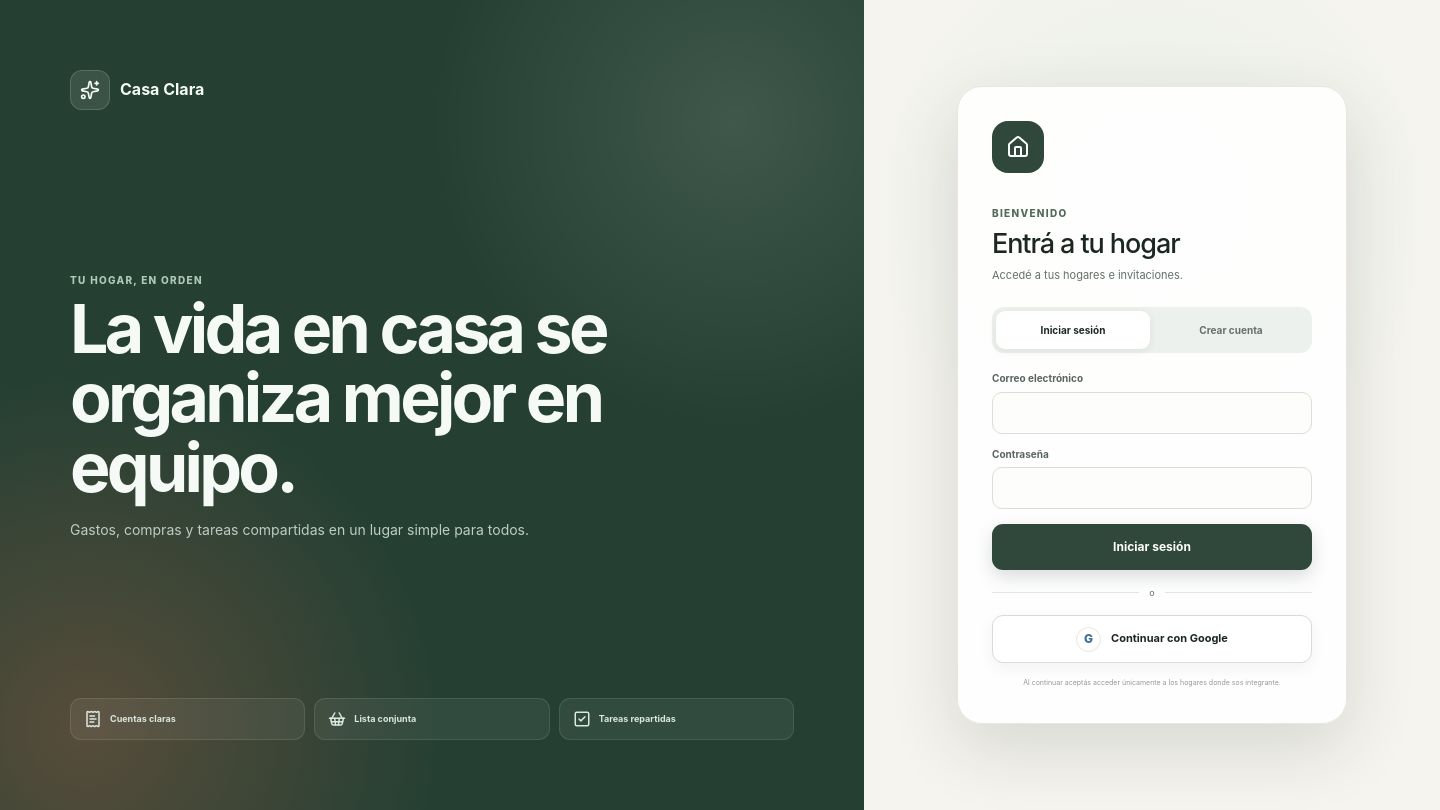
Scenario: AuthScreen › valida el registro y devuelve el foco al primer campo inválido
Click the tab "Crear cuenta".
click(1231, 330)  # box x1=1154 y1=311 x2=1308 y2=349
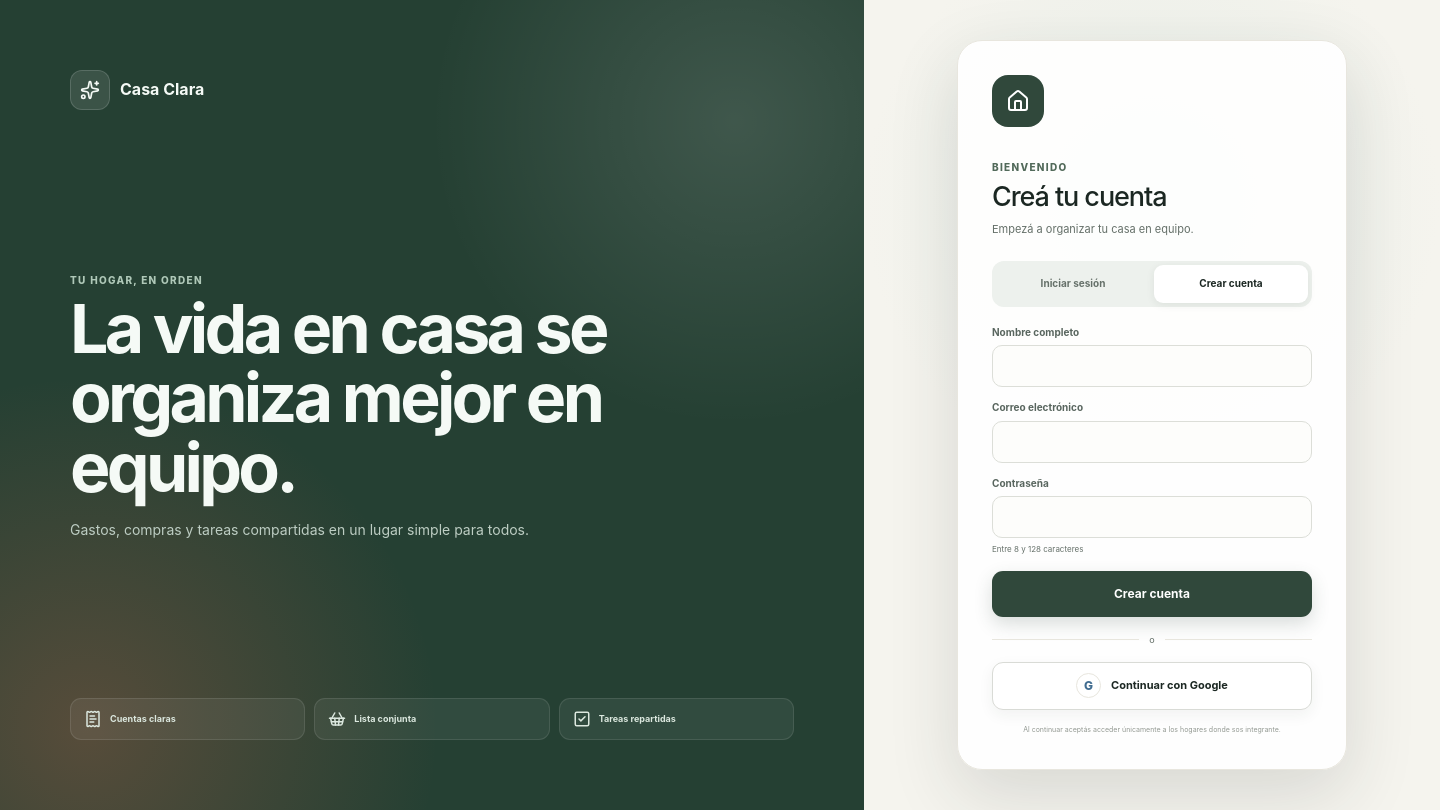
Click the button "Crear cuenta".
click(1152, 594)  # box x1=992 y1=571 x2=1312 y2=617
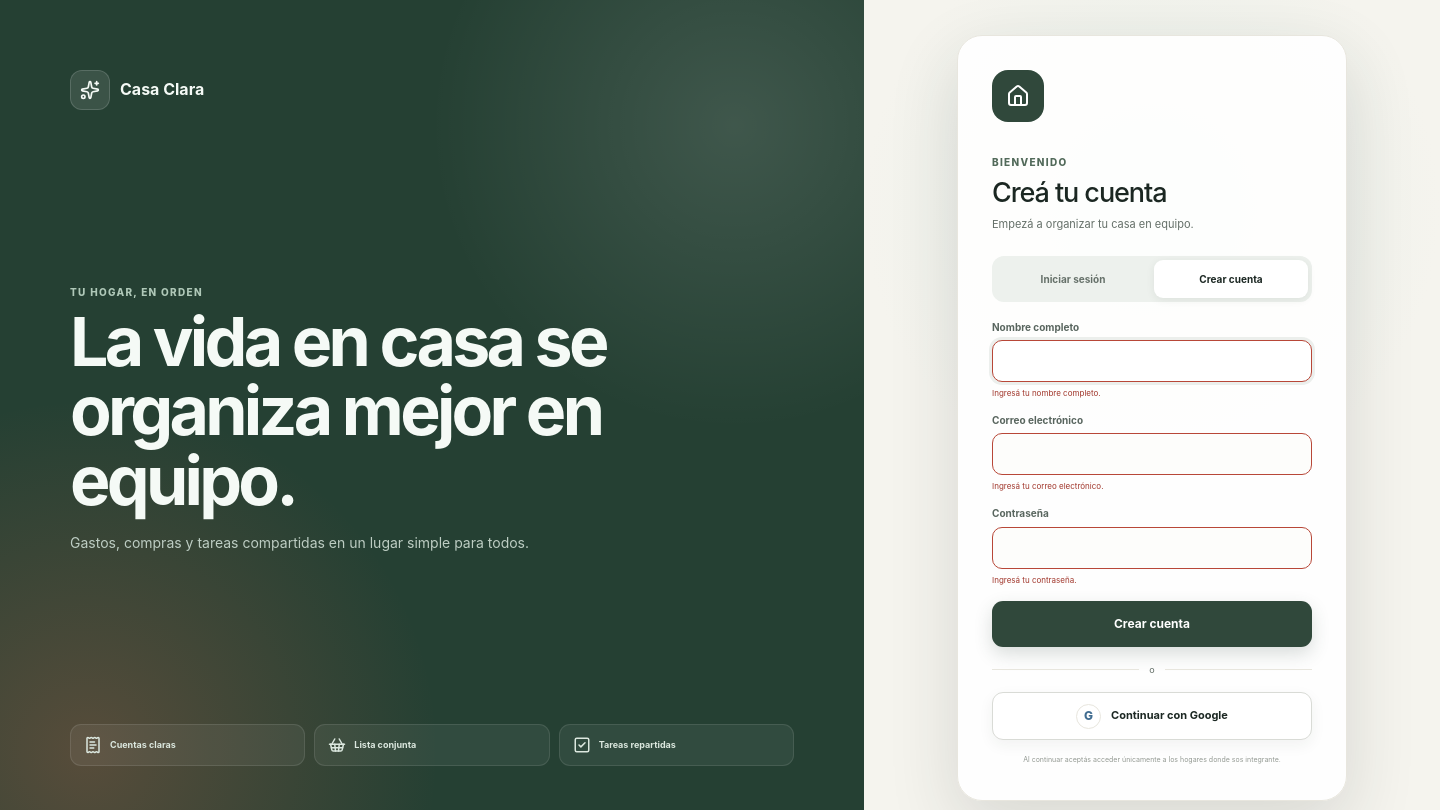
Result: the text "Ingresá tu nombre completo." is shown 3 times at x1=992 y1=388 x2=1101 y2=398; x1=992 y1=481 x2=1104 y2=491; x1=992 y1=574 x2=1076 y2=584
